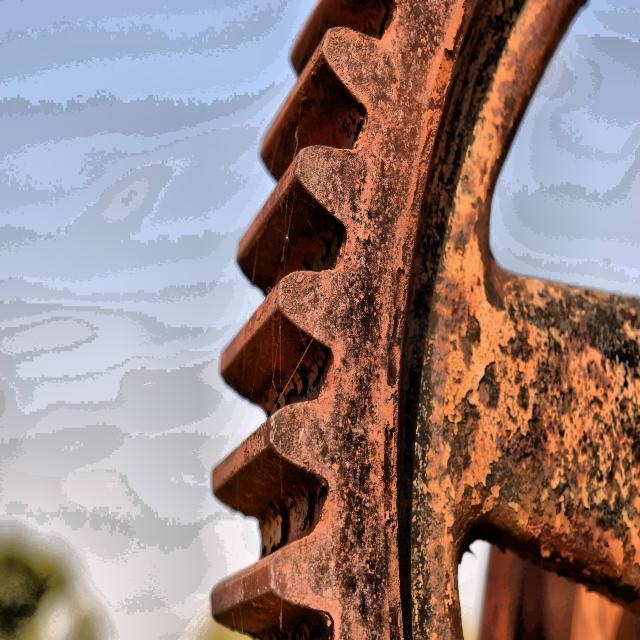Uniform Corrosion: (212, 0, 639, 639)
